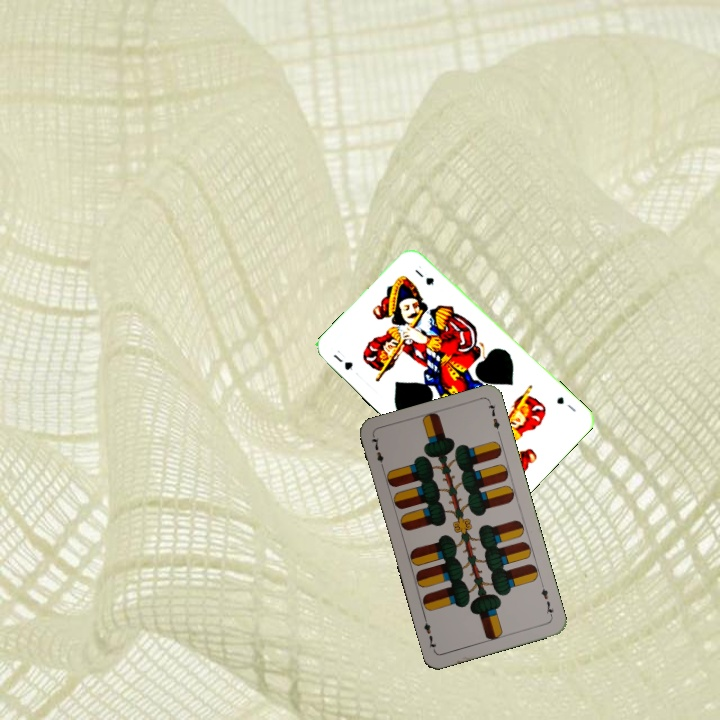E7: (537, 580, 556, 620), (368, 432, 387, 472)
GU: (329, 346, 355, 373), (553, 392, 579, 414)
